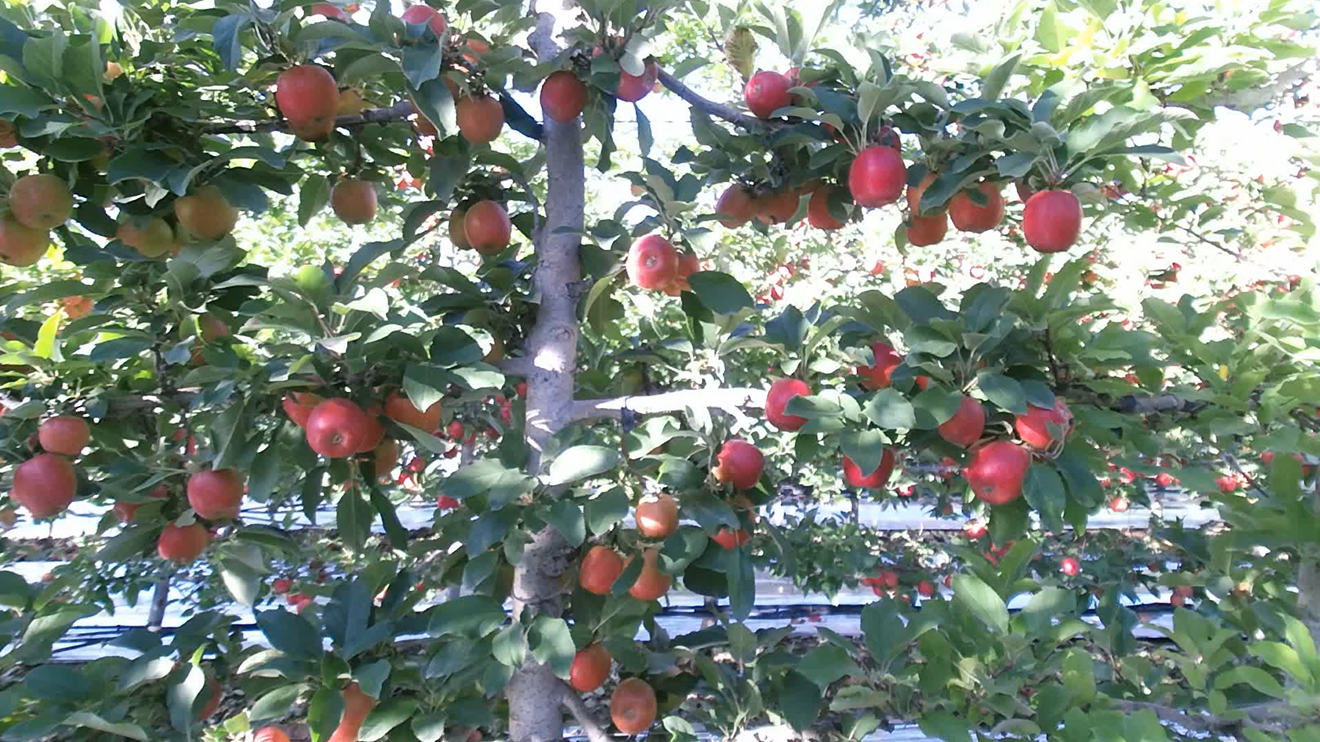trunk: (508, 1, 586, 742)
